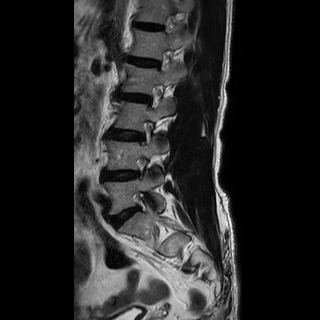LFS0: (133, 116, 160, 149), (142, 80, 168, 114), (150, 42, 173, 77), (130, 186, 155, 217), (129, 152, 153, 182)
